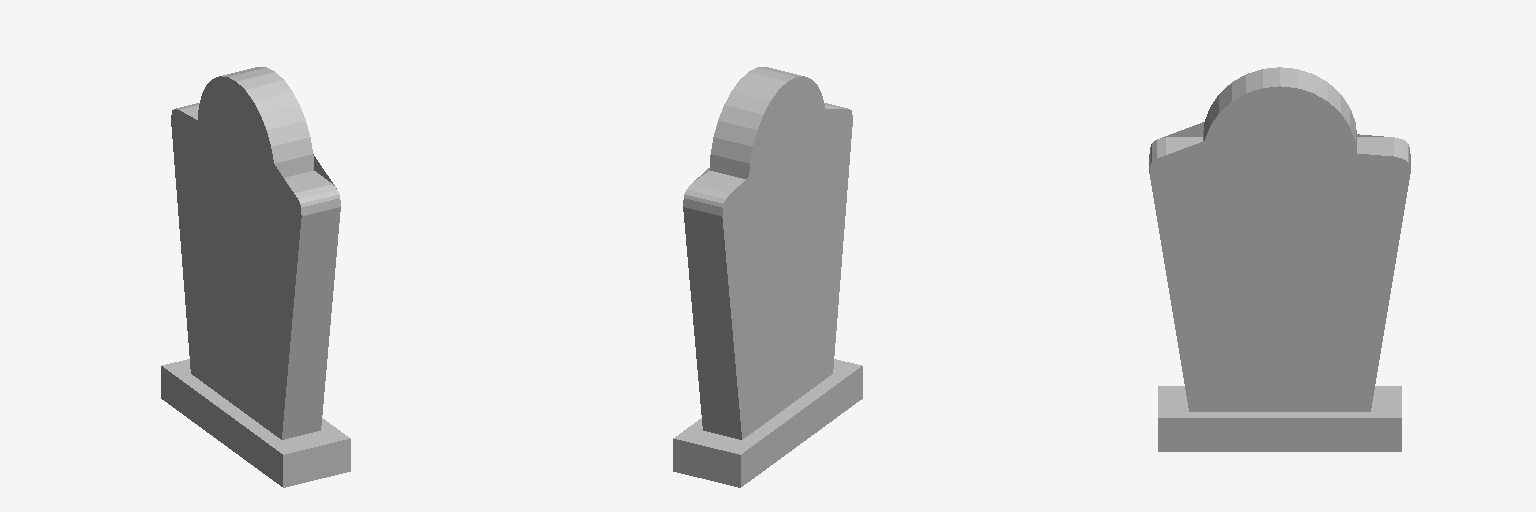
The model's file is TombStone.obj.
3 views of the same model, side by side, from view 1: azimuth 30°, elevation 25°; view 2: azimuth 150°, elevation 25°; view 3: azimuth 270°, elevation 25° (orthographic).
Parts seen in each view (by area): view 1: TombStone; view 2: TombStone; view 3: TombStone.
Part boxes in pixels (left/top/right/bottom): TombStone: left=161, top=67, right=350, bottom=487; TombStone: left=673, top=67, right=862, bottom=487; TombStone: left=1149, top=67, right=1410, bottom=451.
Size of the model in its own units: 0.0492 by 0.2508 by 0.1655.